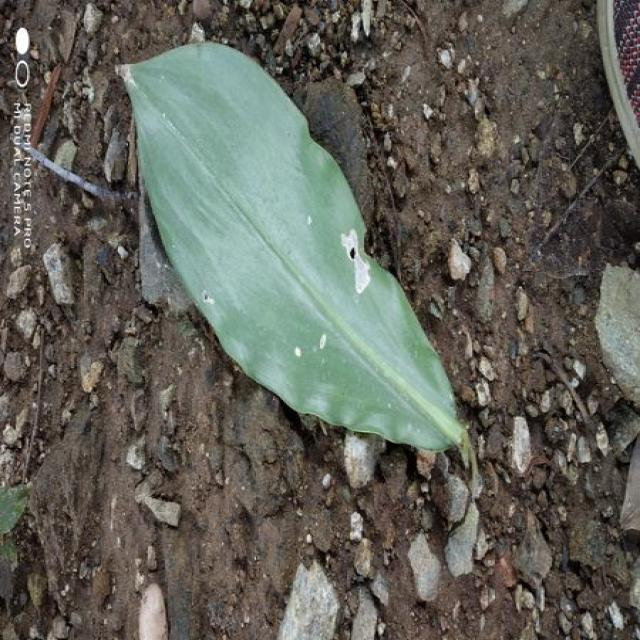insulin: (123, 45, 468, 451)
